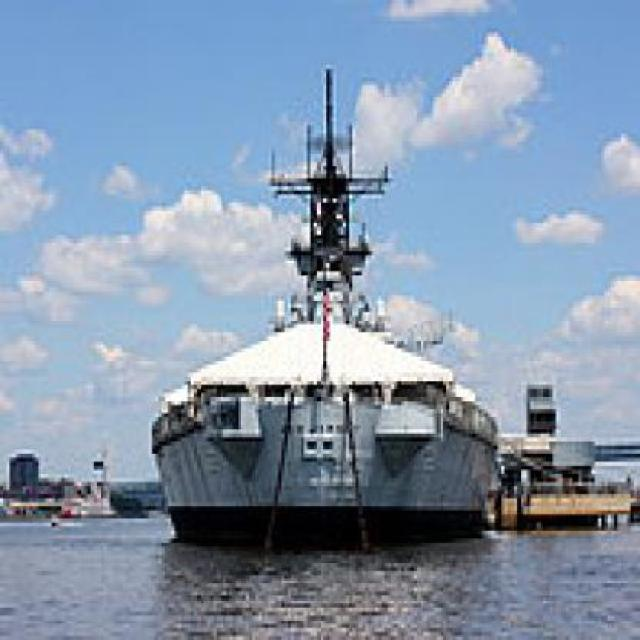warship2: (149, 70, 505, 564)
